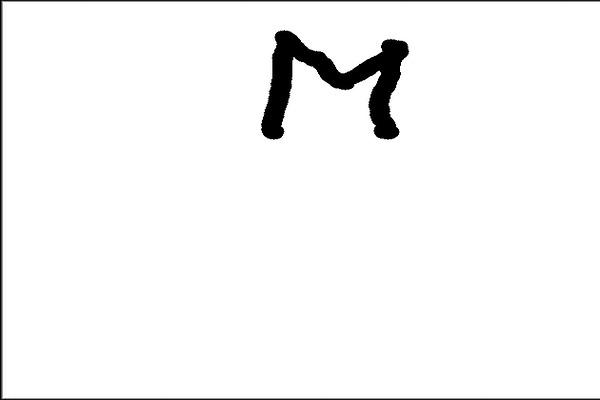M: (259, 27, 401, 144)
